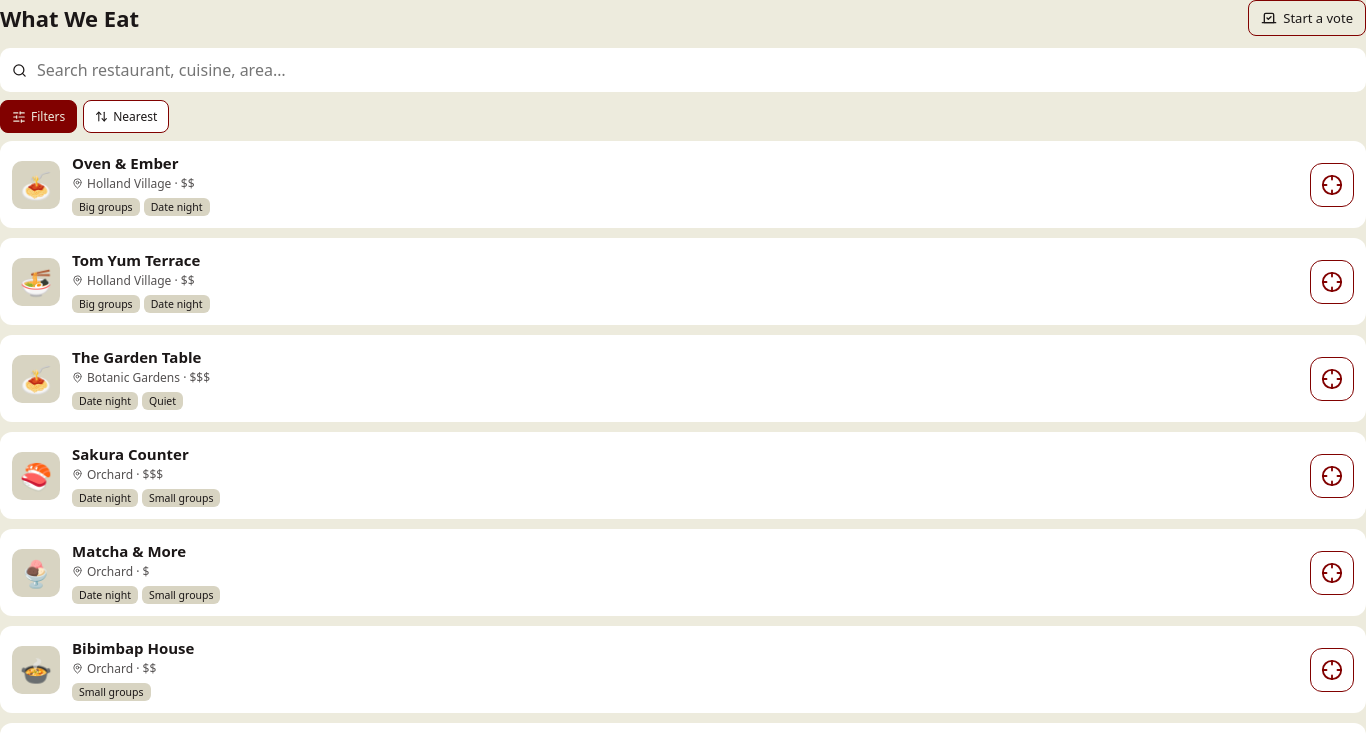
Clear keeps the Near me position, so Nearest still sorts by distance
Expected: the link "Oven & Ember" is shown, [72, 153, 178, 173]
In the search field with placeholder "Search restaurant, cuisine, area…": (694, 70) [35, 58, 1354, 82], type "zzzz"
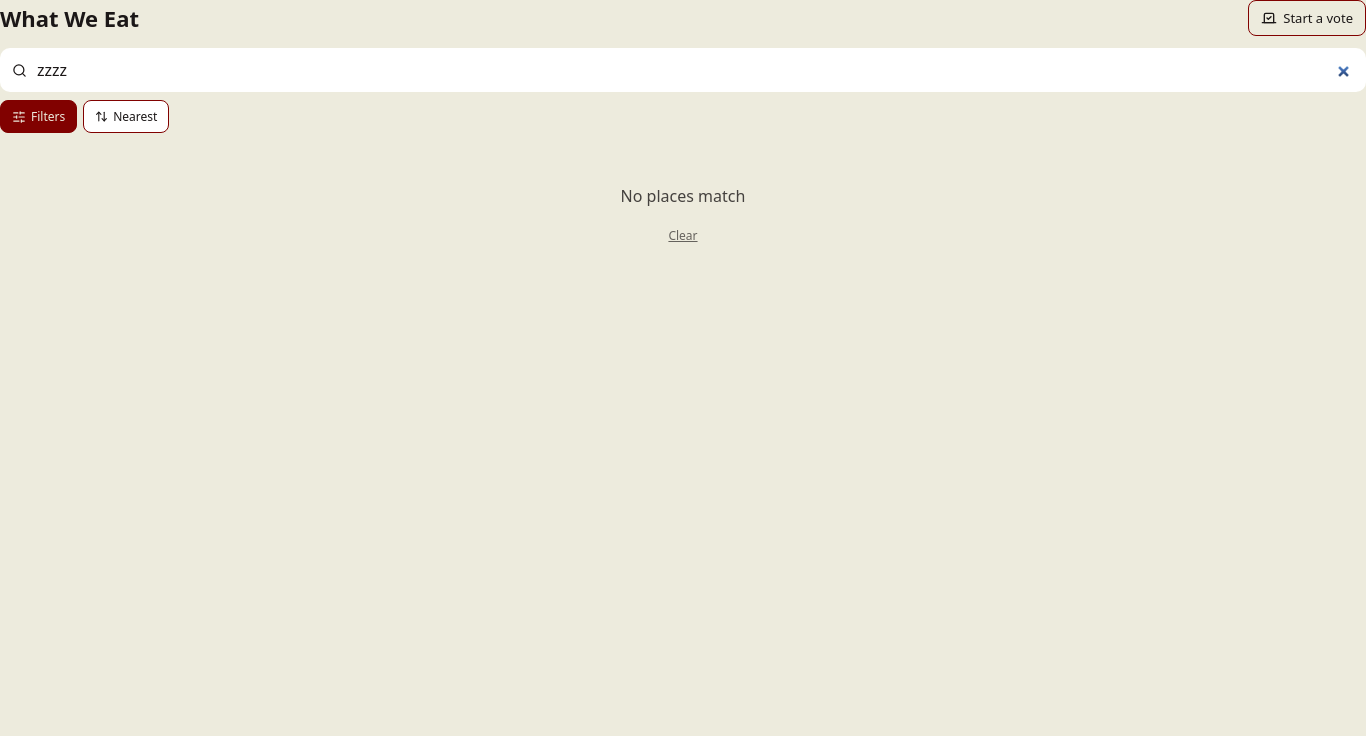
Click the button "Clear": (683, 236) [662, 226, 704, 245]
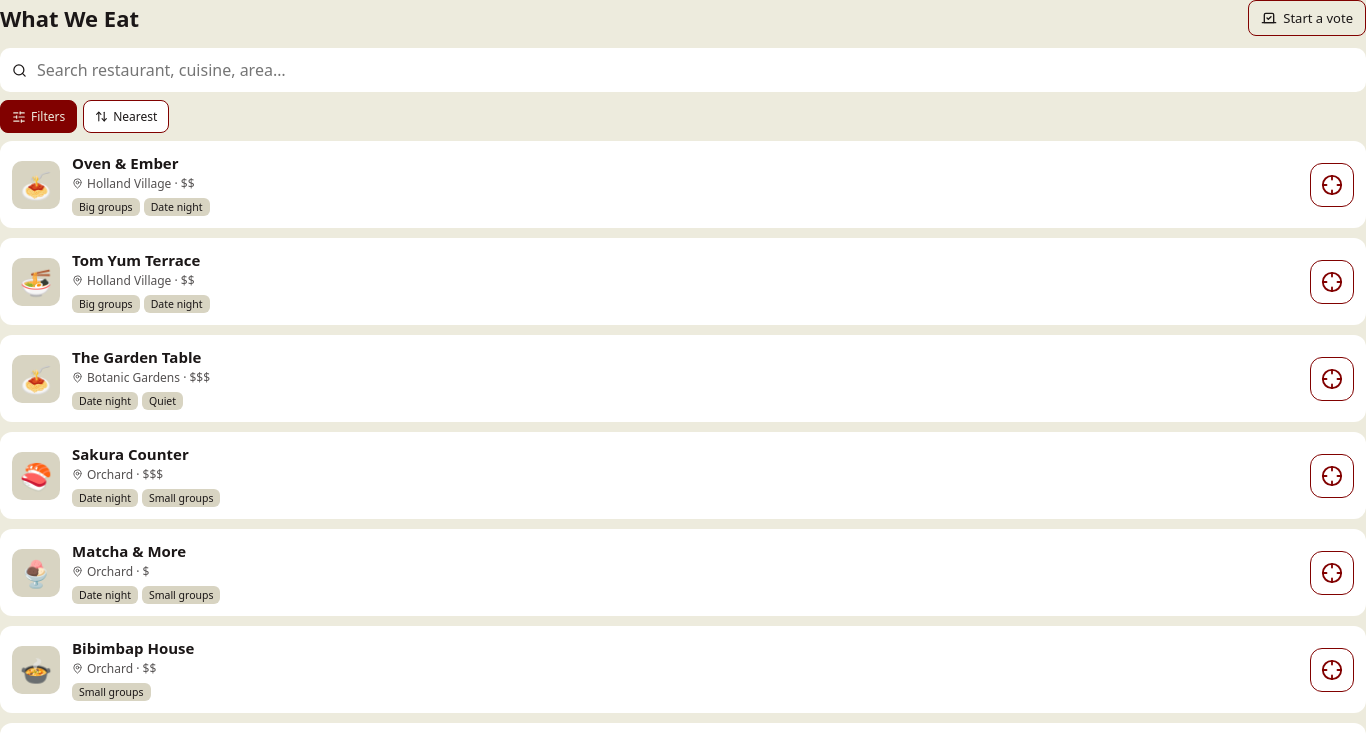
Now the link "Oven & Ember" is shown, box [72, 153, 178, 173]
